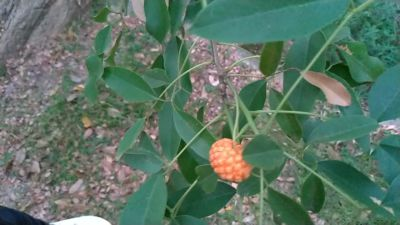eggs: (202, 131, 259, 189)
